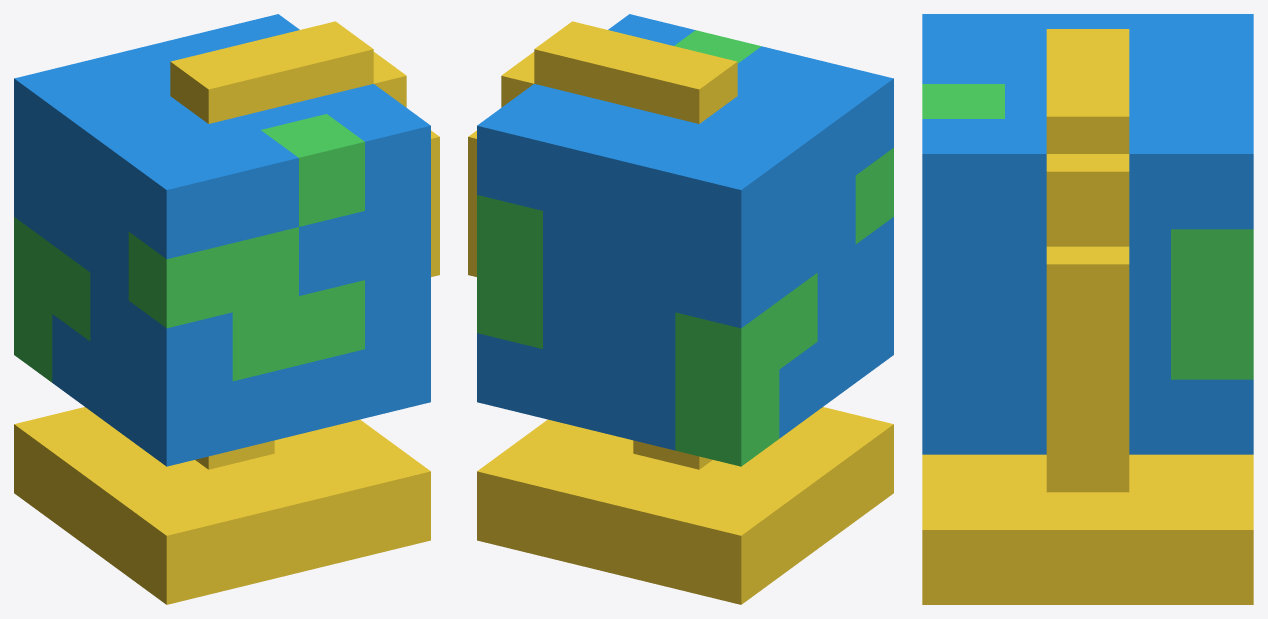
Rendered from Globe.fbx.
3 views of the same model, side by side, from view 1: azimuth 30°, elevation 25°; view 2: azimuth 150°, elevation 25°; view 3: azimuth 270°, elevation 25° (orthographic). The views are drawn at different scales.
Parts seen in each view (by area): view 1: default; view 2: default; view 3: default.
Part boxes in pixels (bbox=[...]): default: bbox=[14, 14, 439, 604]; default: bbox=[468, 14, 893, 604]; default: bbox=[922, 14, 1253, 604].
Bounding box in the file's own units: 20 × 26 × 16.
